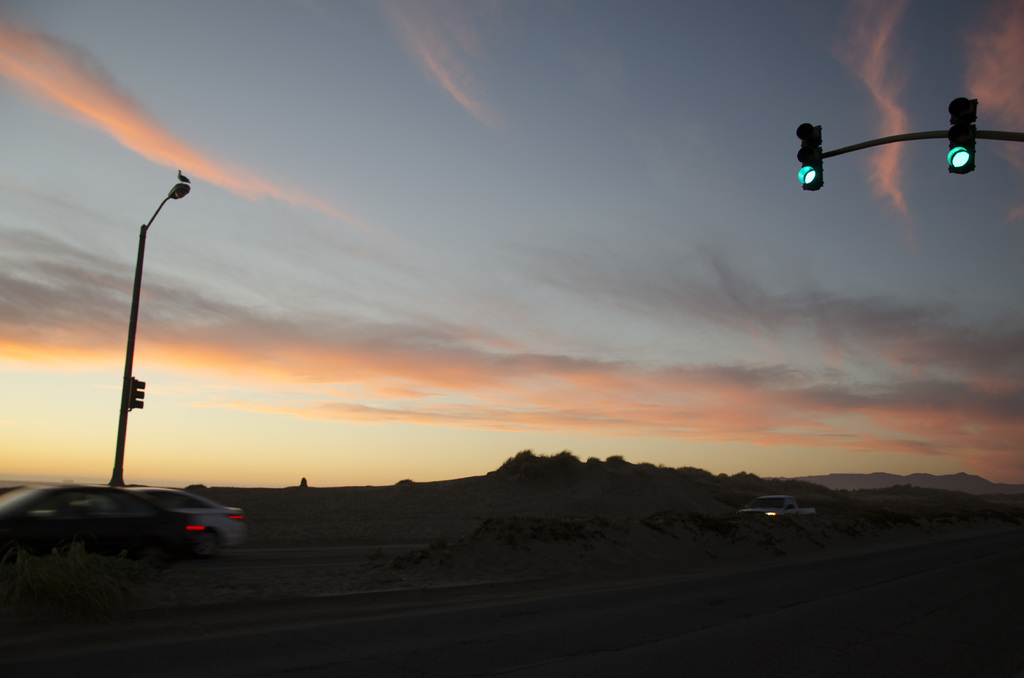cars: (12, 481, 266, 570)
